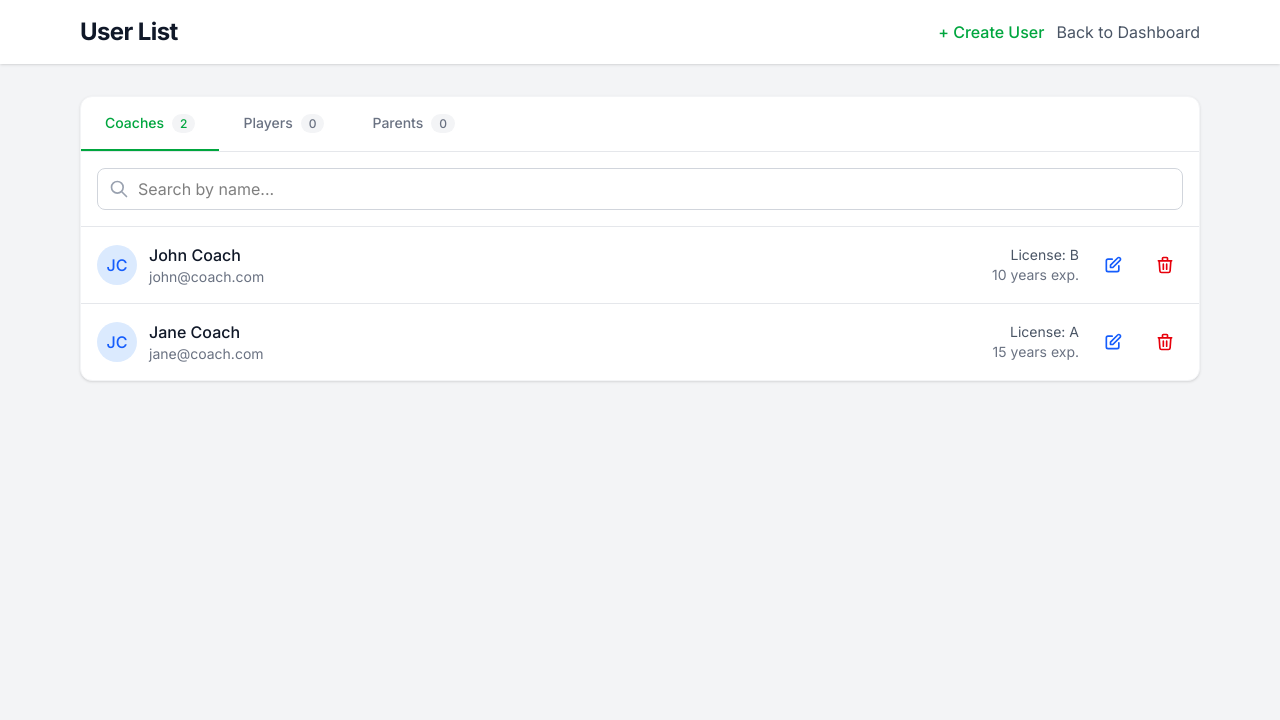
Test: UserListPage › Delete functionality › should close dialog on cancel
Expected: the text "John Coach" is shown, left=149, top=245, right=241, bottom=265
Click the button titled "Delete coach" in the row of "10": (1165, 265) left=1147, top=247, right=1183, bottom=283
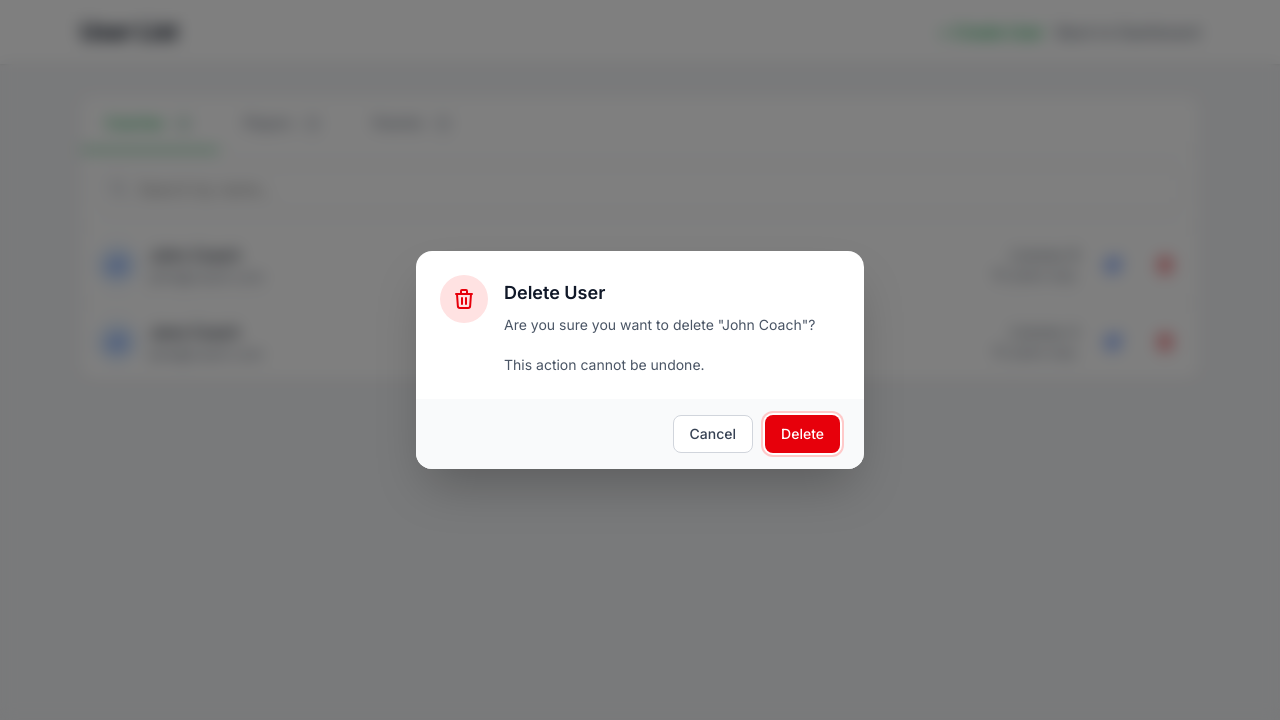
Expected: the heading "Delete User" is shown, left=504, top=282, right=605, bottom=303
Click the button "Cancel": (713, 434) left=673, top=415, right=753, bottom=453
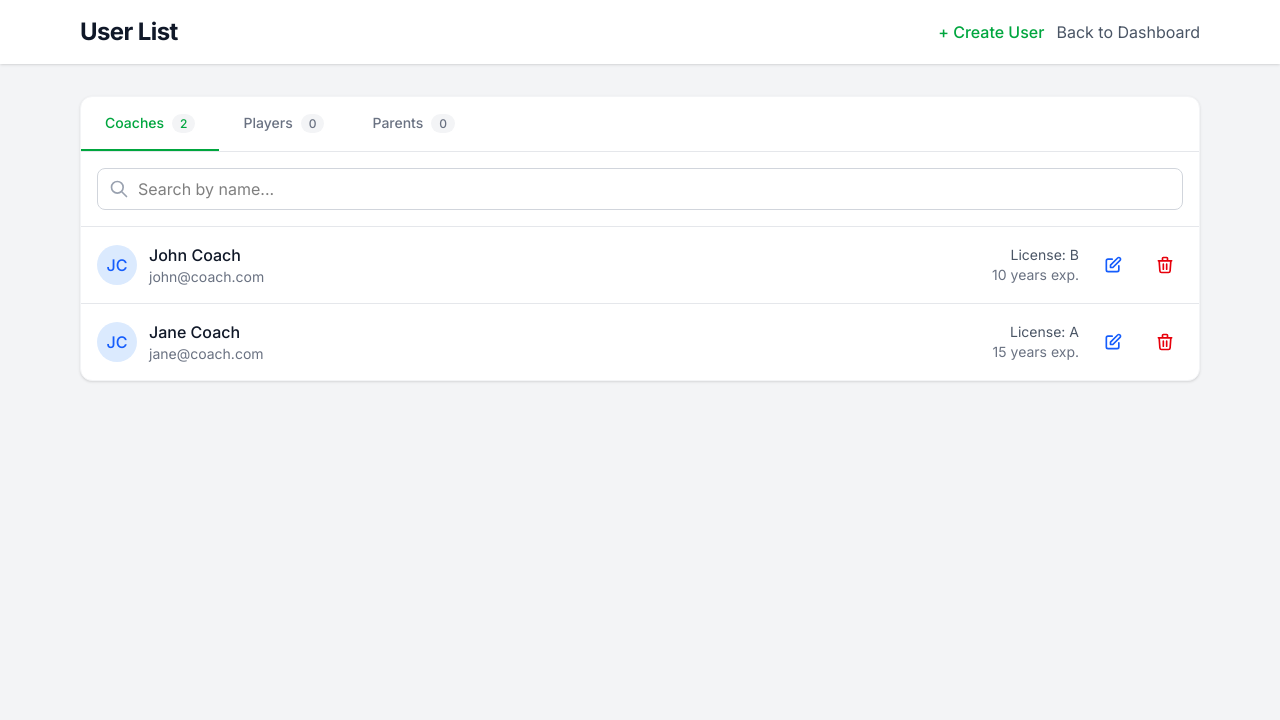
Expected: the heading "Delete User" is gone
